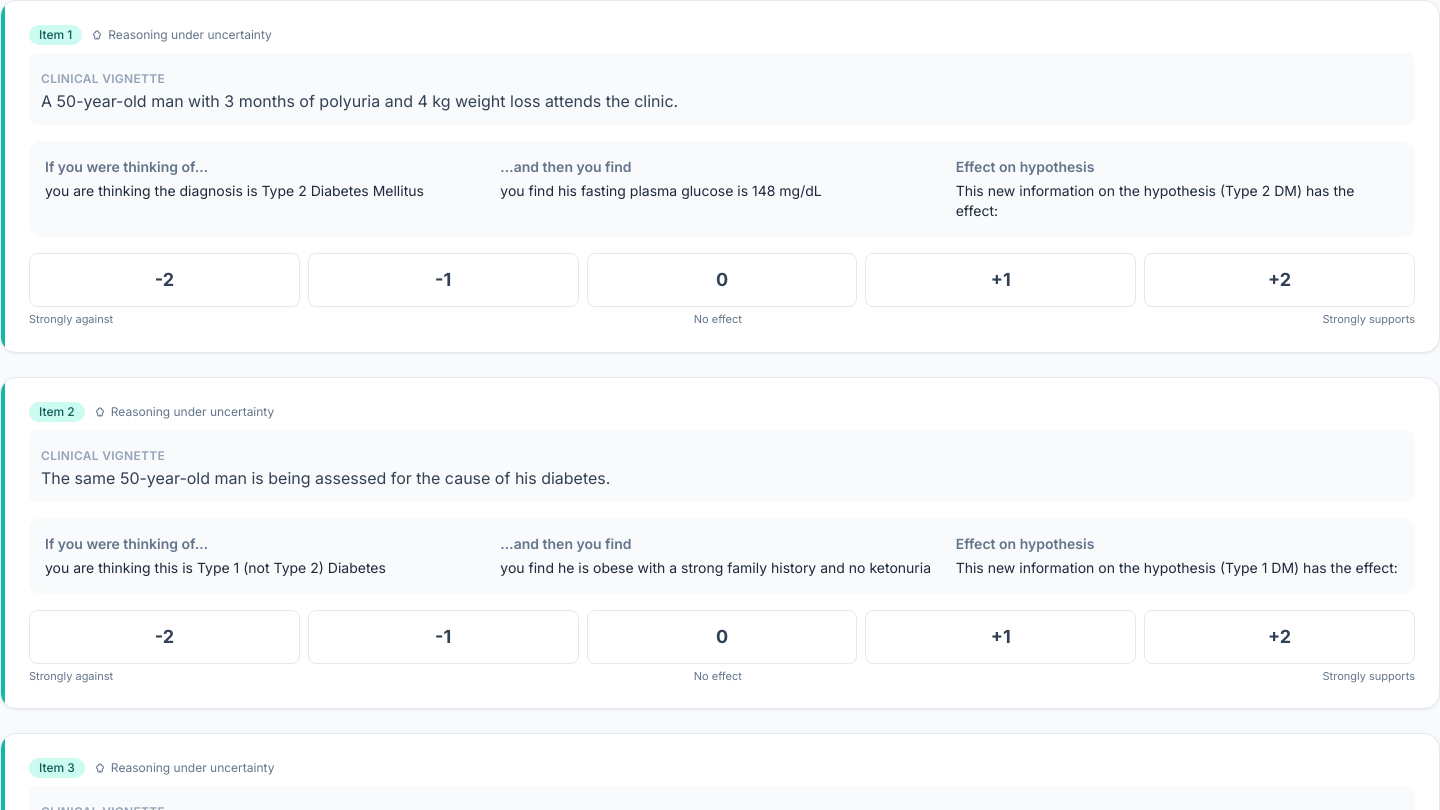
Script Concordance Test — submission › scores the module after every item is answered
The width and height of the screenshot is (1440, 810).
Click the 1st button "0" at (722, 280), box left=587, top=253, right=857, bottom=307
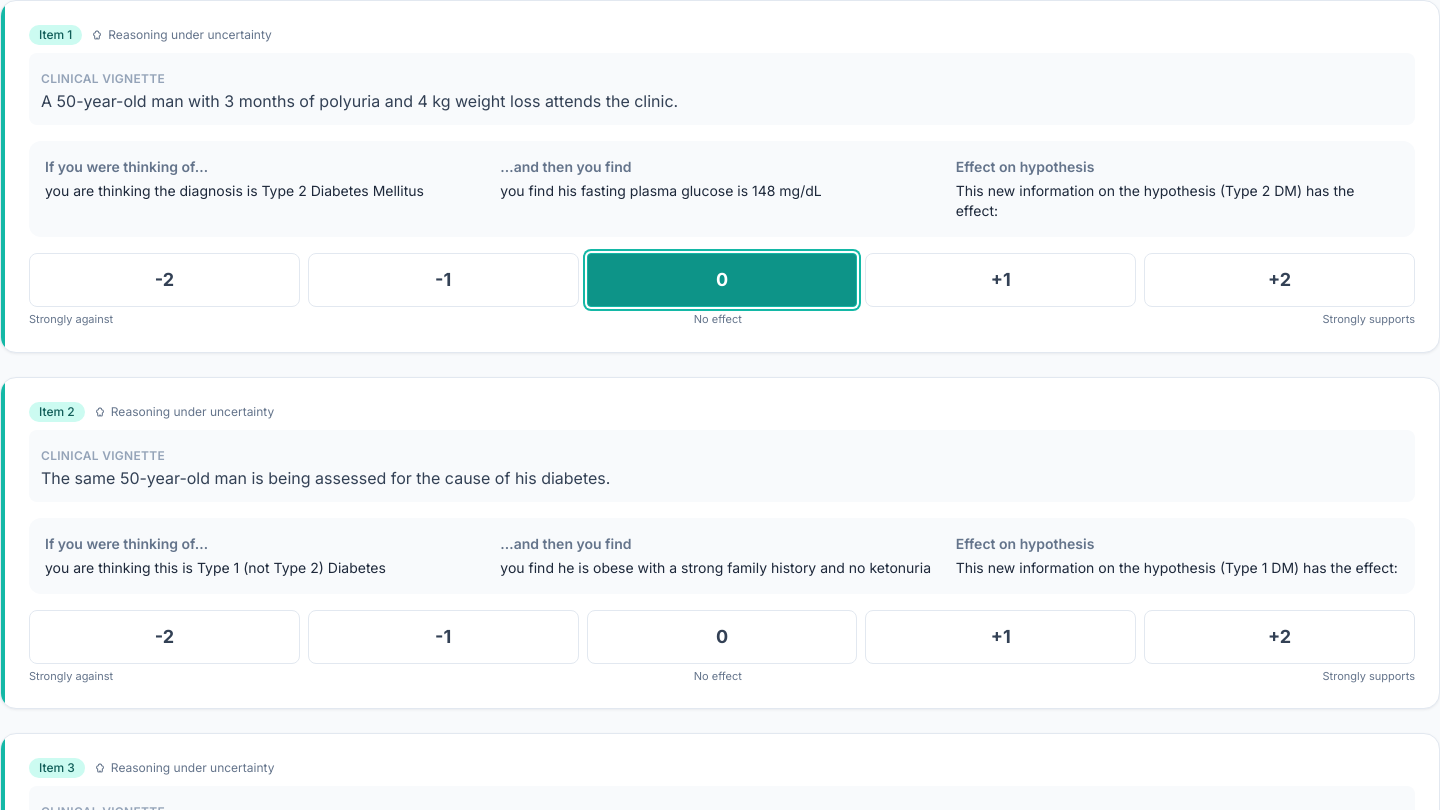
Click the 2nd button "0" at (722, 636), box left=587, top=610, right=857, bottom=664
(page scrolled)
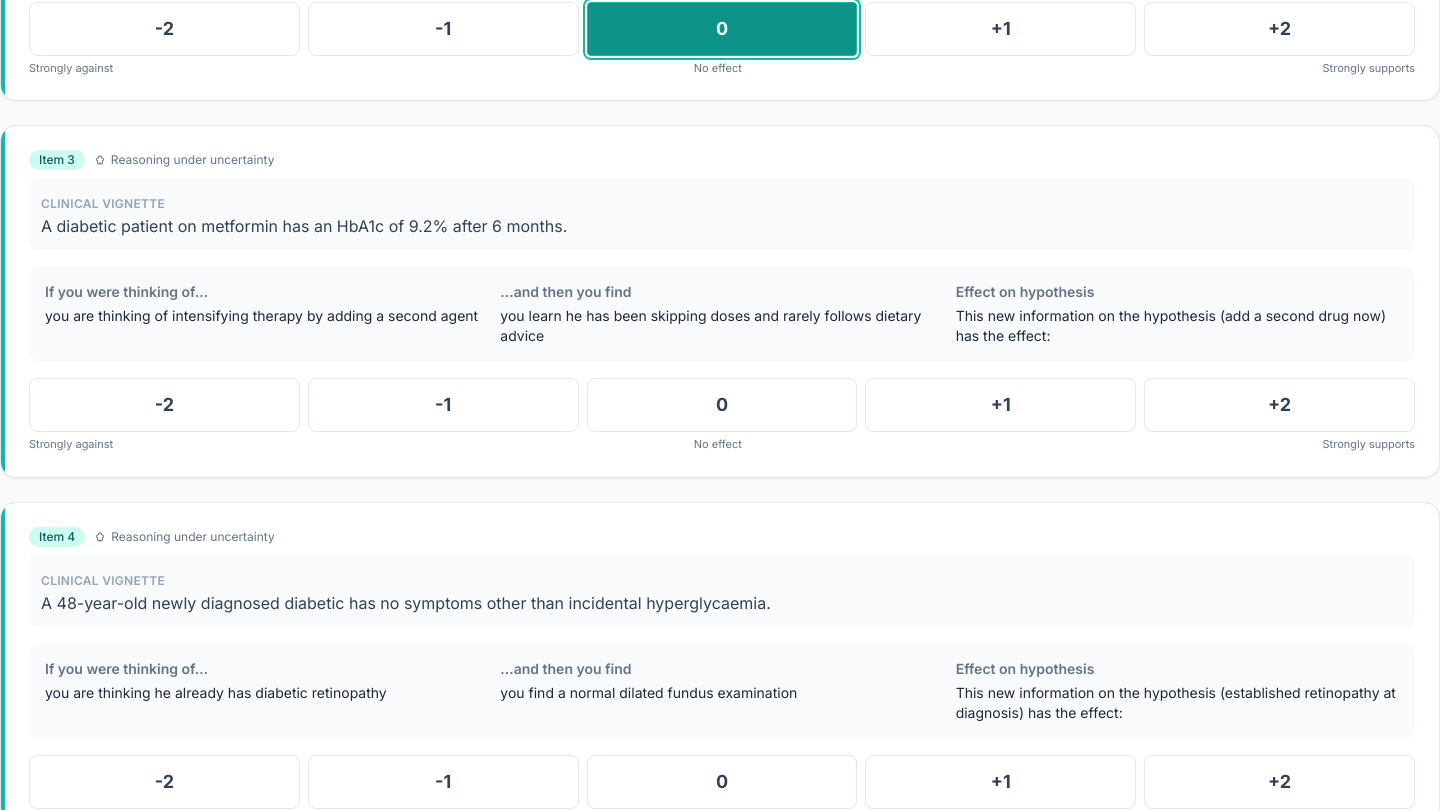
Click the 2nd button "0" at (722, 405), box left=587, top=378, right=857, bottom=432
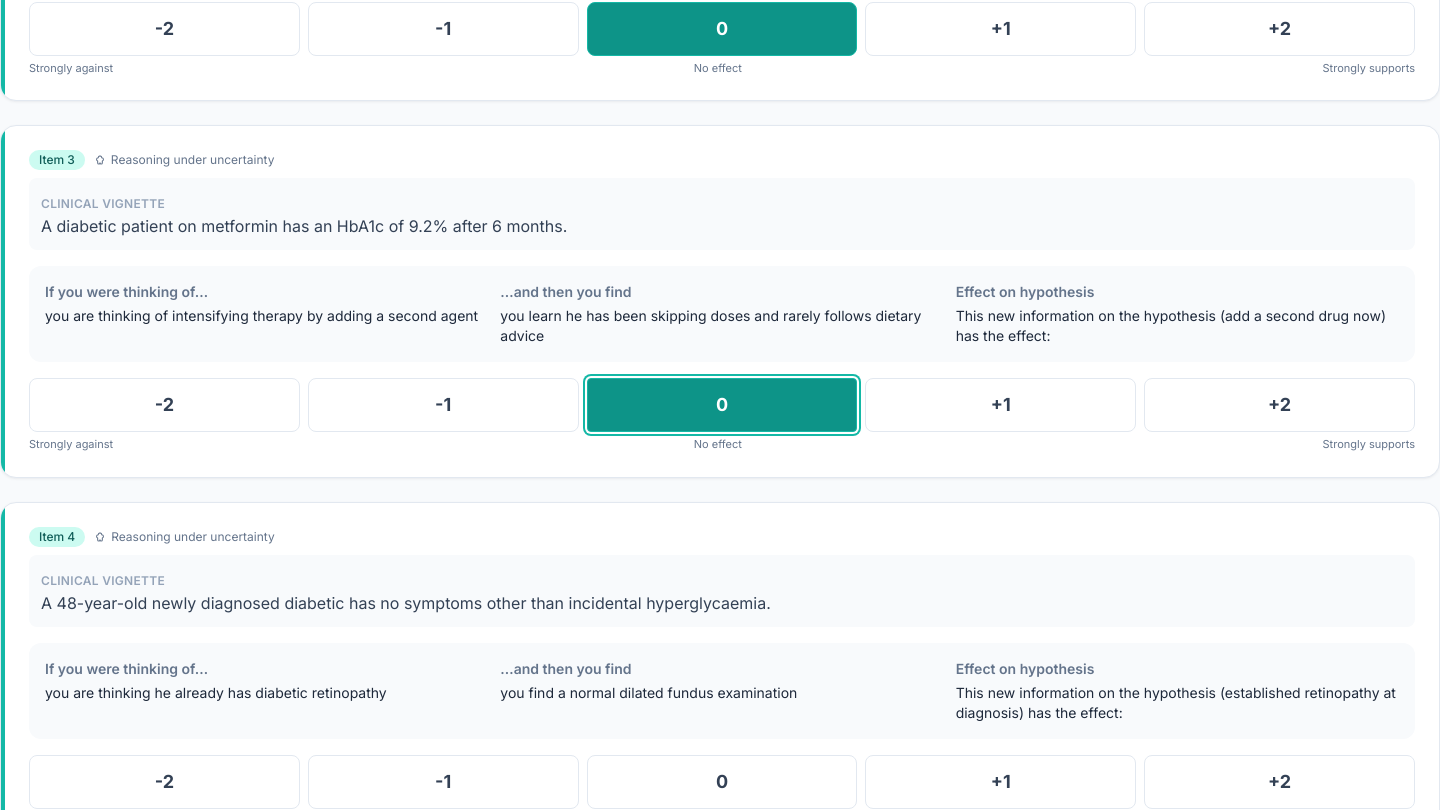
Click the 3rd button "0" at (722, 782), box left=587, top=754, right=857, bottom=808
(page scrolled)
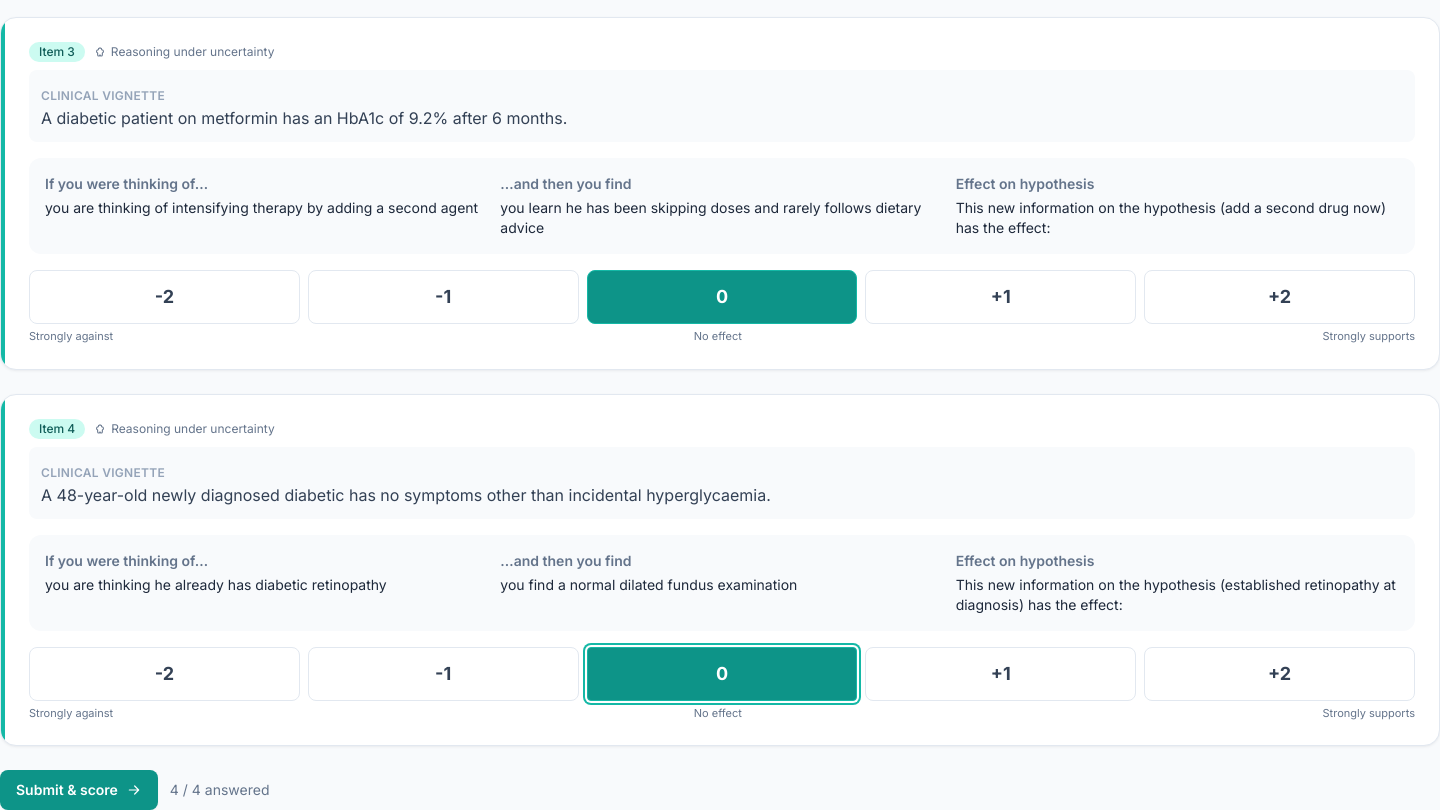
Check: the button "Submit & score" is enabled
Click the button "Submit & score" at (79, 790), box left=0, top=770, right=158, bottom=809
(page scrolled)
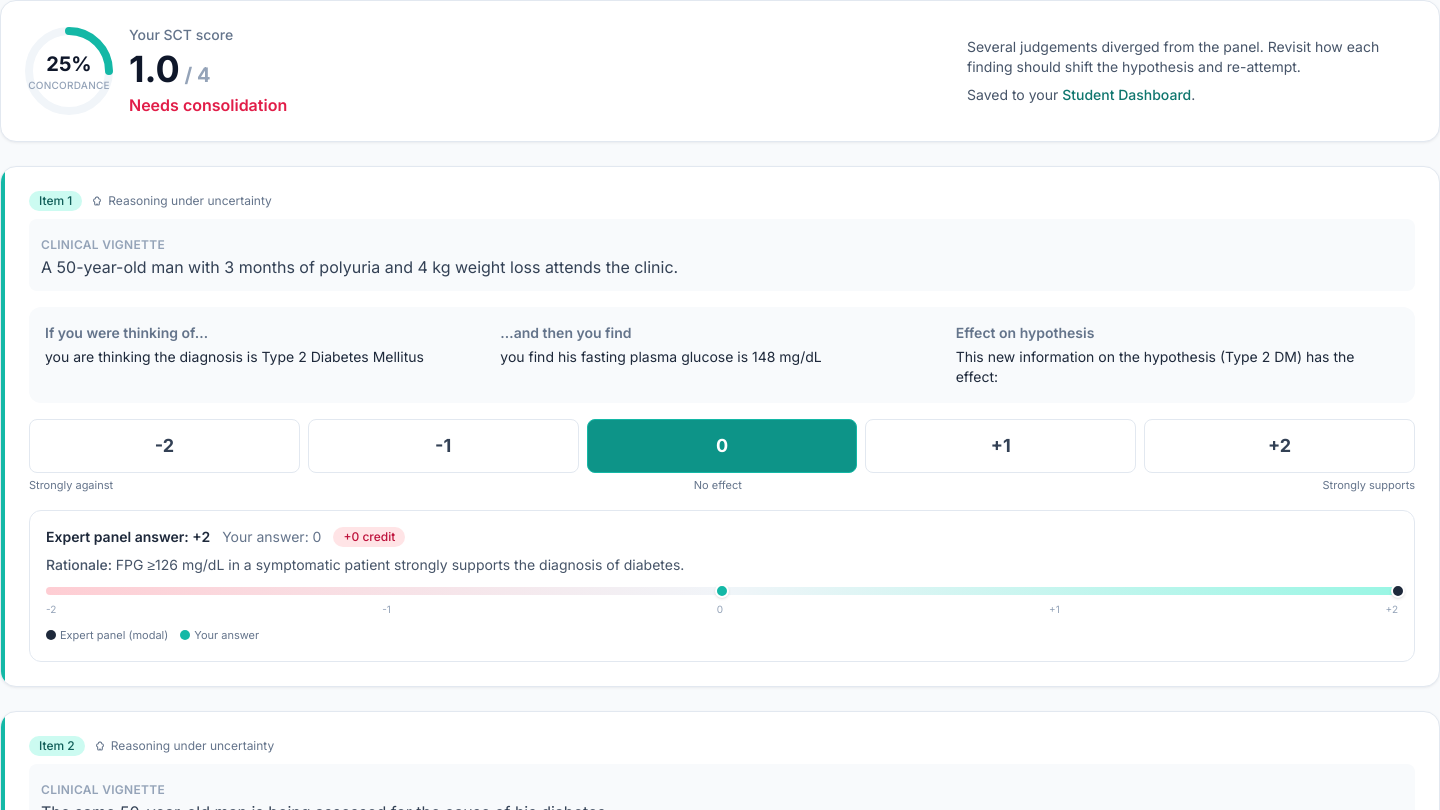
Check: the text "Your SCT score" is shown, box left=129, top=26, right=233, bottom=43
Check: the text "Expert panel answer: +2" is shown 4 times
